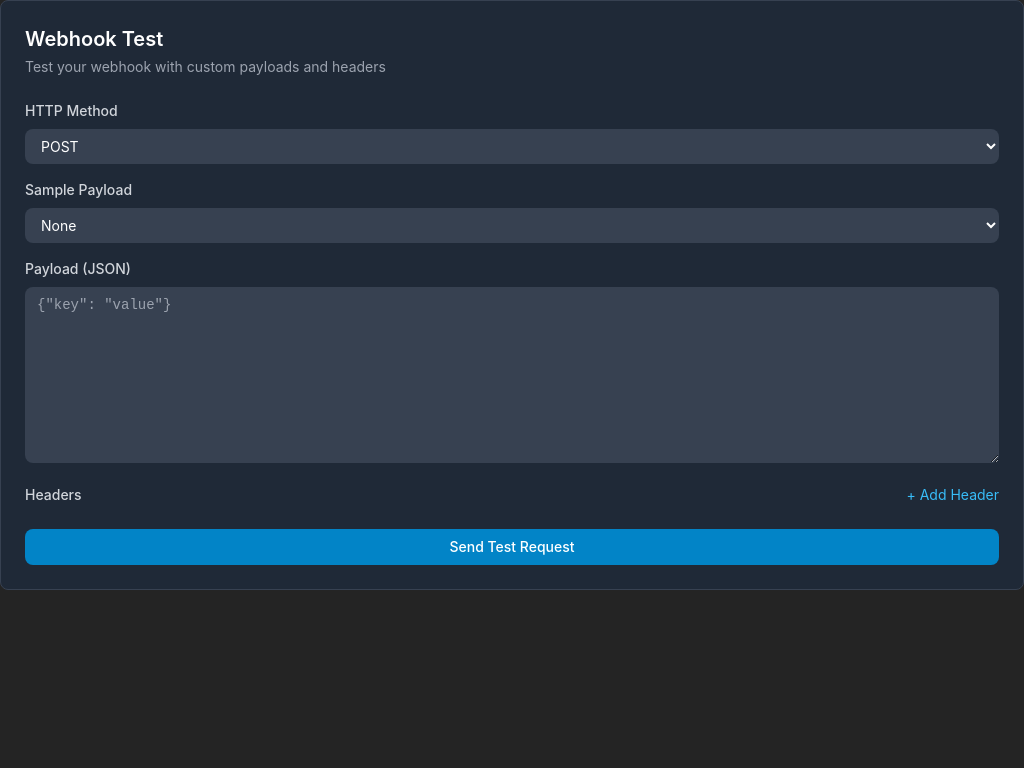
WebhookTestPanel › Custom Headers › should allow multiple header pairs
Click the button "+ Add Header". click: (953, 495)
box: [906, 485, 999, 505]
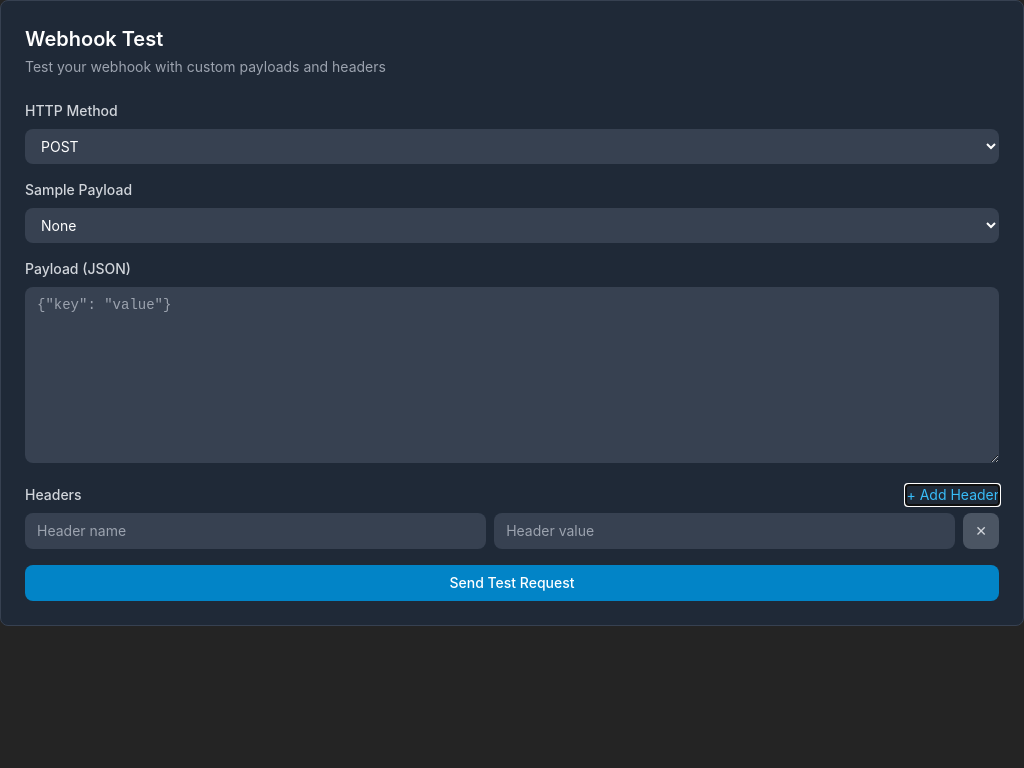
Click the button "+ Add Header". click: (953, 495)
box: [906, 485, 999, 505]
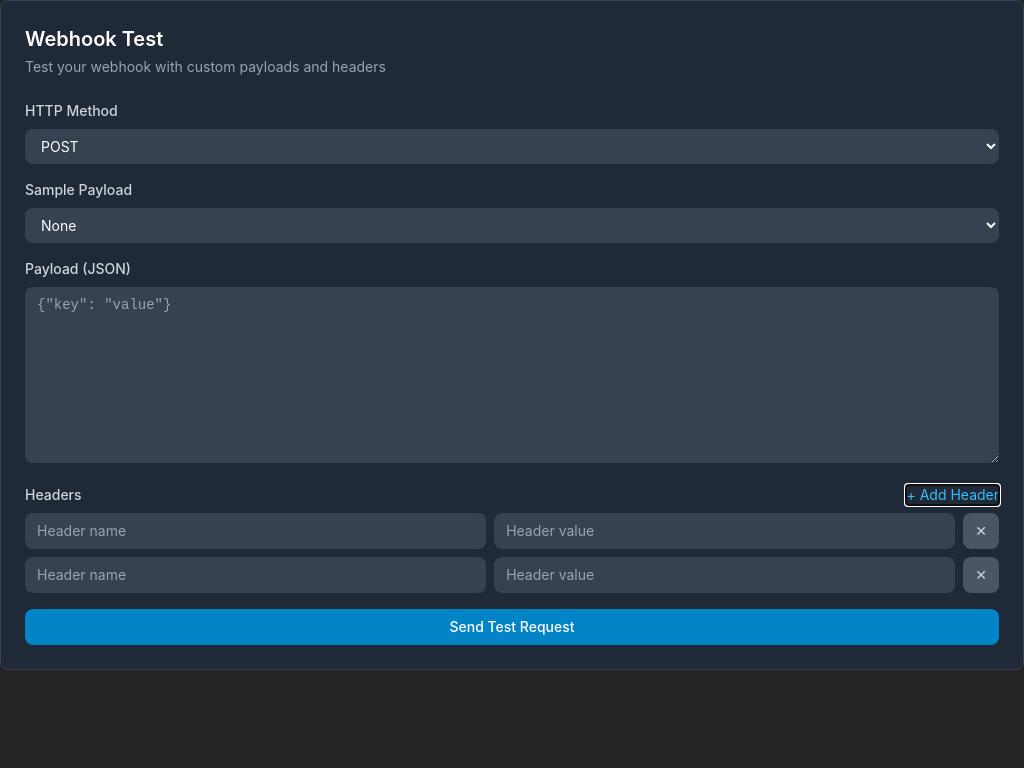
Check: the number of fields with placeholder "Header name" is 2, box [25, 513, 486, 549]; [25, 557, 486, 593]
